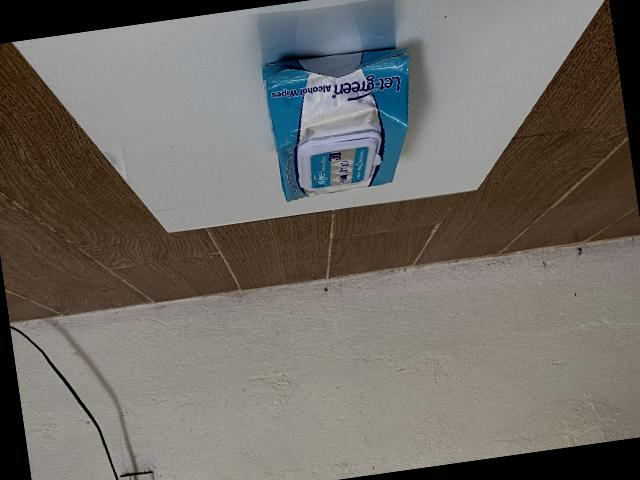Let-green_alcohol_wipes: (262, 46, 410, 199)
